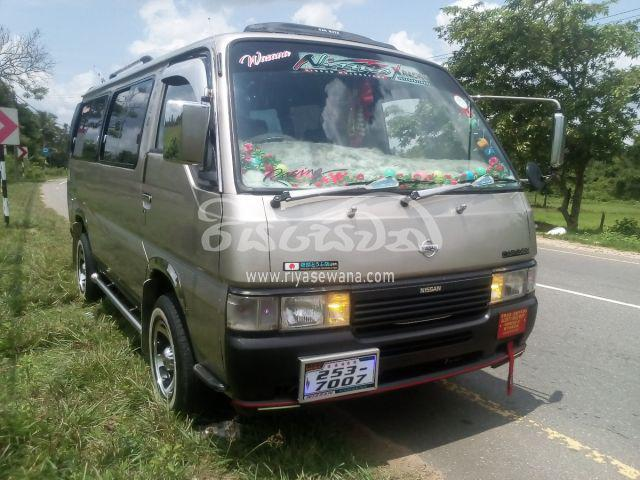van: (68, 20, 567, 411)
